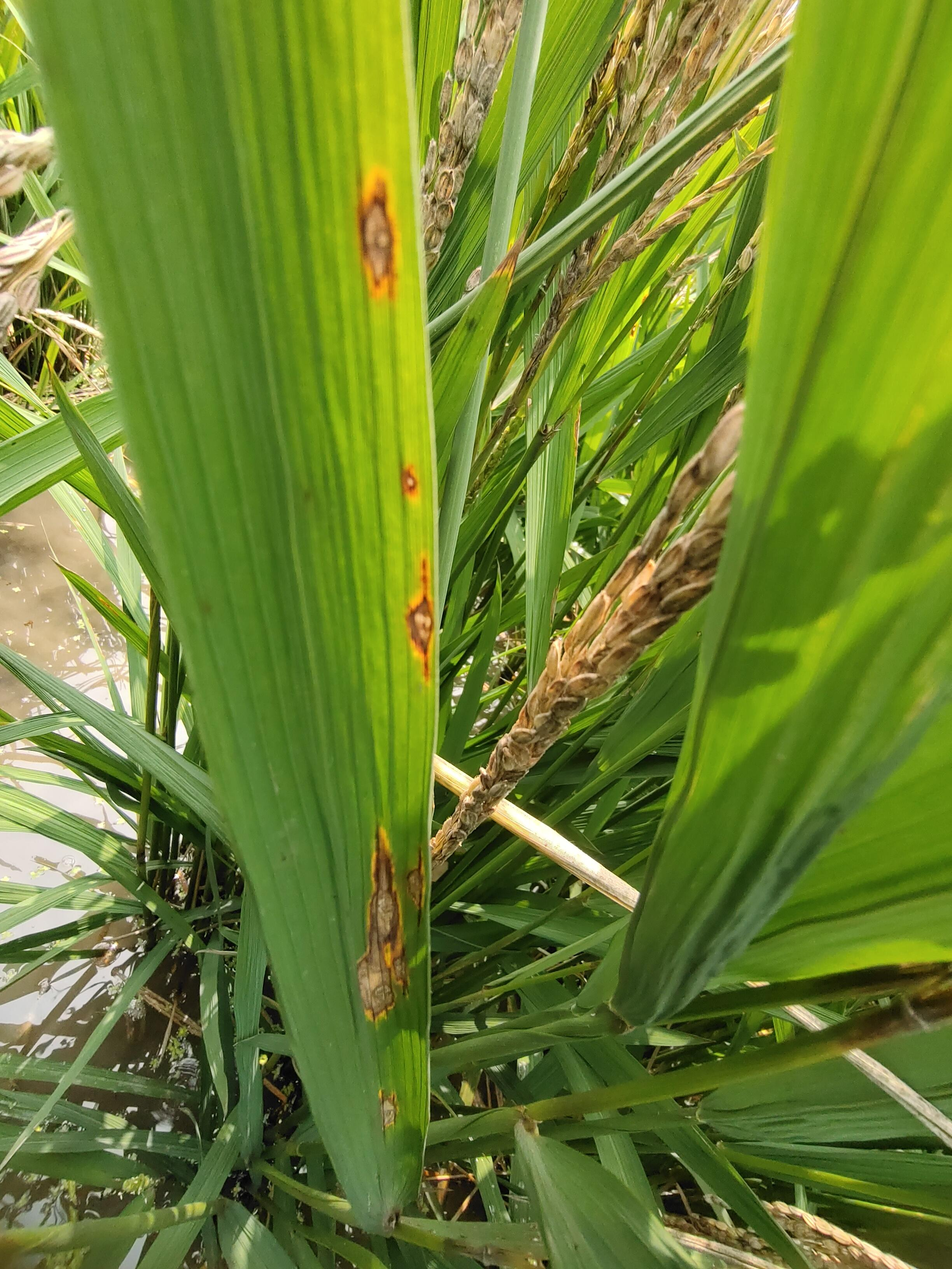LEAF: (28, 0, 439, 1232)
LEAF BLAST: (357, 827, 408, 1021), (359, 173, 397, 297), (406, 556, 433, 681), (407, 852, 425, 912), (381, 1091, 397, 1129), (401, 466, 418, 495)
